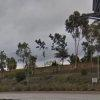Tree: (42, 6, 100, 63)
